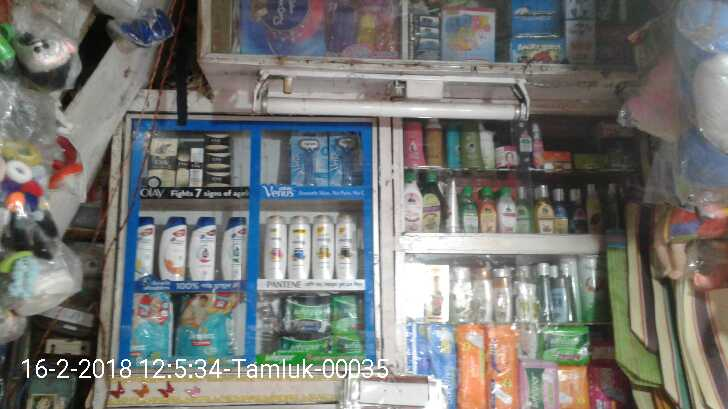venus: (292, 130, 328, 187), (328, 131, 358, 187)
